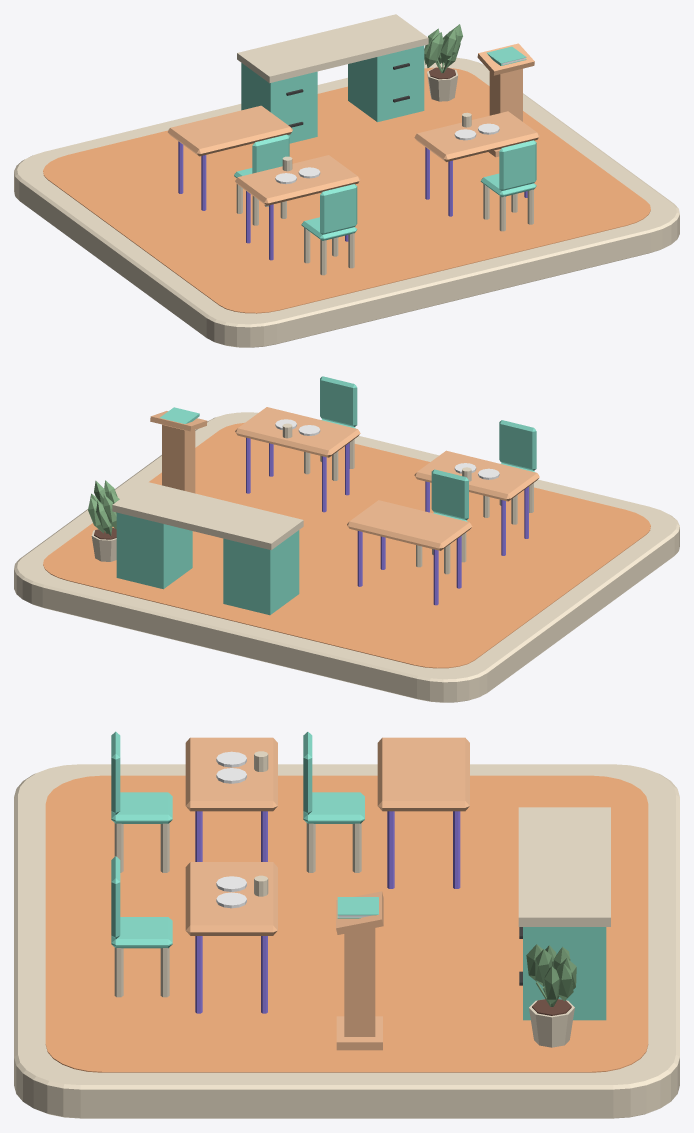
The model's file is room.fbx.
The picture shows the model from 3 angles, top to bottom: view 1: azimuth 30°, elevation 25°; view 2: azimuth 150°, elevation 25°; view 3: azimuth 270°, elevation 25°; orthographic projection. The views are drawn at different scales.
Parts seen in each view (by area): view 1: COM-02 Floor Surface, COM-01 Rounded Base Direct, Worktop, Storage module.001, Storage module, Rounded table top.002, Rounded table top, Rounded table top.001, Pot, Backrest, Backrest.001, Body (+4 smaller); view 2: COM-02 Floor Surface, COM-01 Rounded Base Direct, Worktop, Storage module, Storage module.001, Rounded table top.002, Rounded table top.001, Rounded table top, Body, Pot, Backrest, Backrest.001 (+1 smaller); view 3: COM-02 Floor Surface, COM-01 Rounded Base Direct, Worktop, Rounded table top.002, Rounded table top, Rounded table top.001, Storage module.001, Pot, Body, Seat.002, Seat, Seat.001 (+9 smaller).
Part boxes in pixels (x1,y1,x2,y2): COM-02 Floor Surface: [43, 67, 650, 313]; COM-01 Rounded Base Direct: [14, 57, 679, 347]; Worktop: [237, 14, 428, 83]; Storage module.001: [348, 45, 424, 122]; Storage module: [241, 63, 317, 143]; Rounded table top.002: [167, 105, 292, 156]; Rounded table top: [235, 155, 360, 205]; Rounded table top.001: [414, 111, 539, 161]; Pot: [424, 24, 462, 101]; Backrest: [320, 184, 357, 234]; Backrest.001: [499, 140, 536, 190]; Body: [489, 68, 522, 121]; COM-02 Floor Surface: [43, 422, 650, 668]; COM-01 Rounded Base Direct: [14, 412, 679, 702]; Worktop: [112, 481, 303, 550]; Storage module: [223, 530, 299, 615]; Storage module.001: [116, 512, 192, 589]; Rounded table top.002: [347, 500, 472, 550]; Rounded table top.001: [235, 407, 360, 457]; Rounded table top: [414, 450, 539, 501]; Body: [162, 424, 195, 493]; Pot: [88, 480, 119, 561]; Backrest: [499, 420, 536, 470]; Backrest.001: [320, 376, 357, 426]; COM-02 Floor Surface: [45, 775, 648, 1072]; COM-01 Rounded Base Direct: [14, 764, 679, 1118]; Worktop: [518, 807, 610, 926]; Rounded table top.002: [377, 737, 469, 811]; Rounded table top: [185, 737, 277, 811]; Rounded table top.001: [185, 862, 277, 935]; Storage module.001: [523, 927, 606, 1020]; Pot: [526, 944, 576, 1047]; Body: [344, 928, 375, 1036]; Seat.002: [303, 792, 364, 823]; Seat: [111, 792, 172, 823]; Seat.001: [111, 917, 172, 948].
Size of the model in its own units: 600 by 143 by 520.
